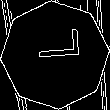L_W: (29, 38, 81, 72)
